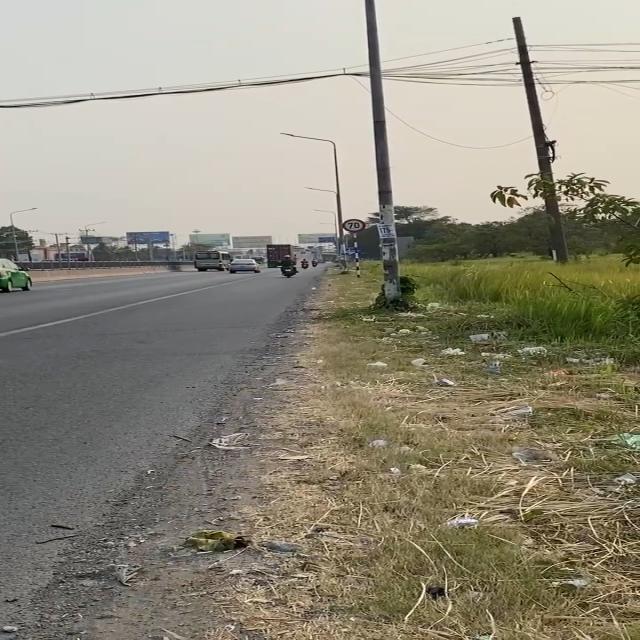127-toc-do-toi-da-70: (342, 219, 366, 233)
